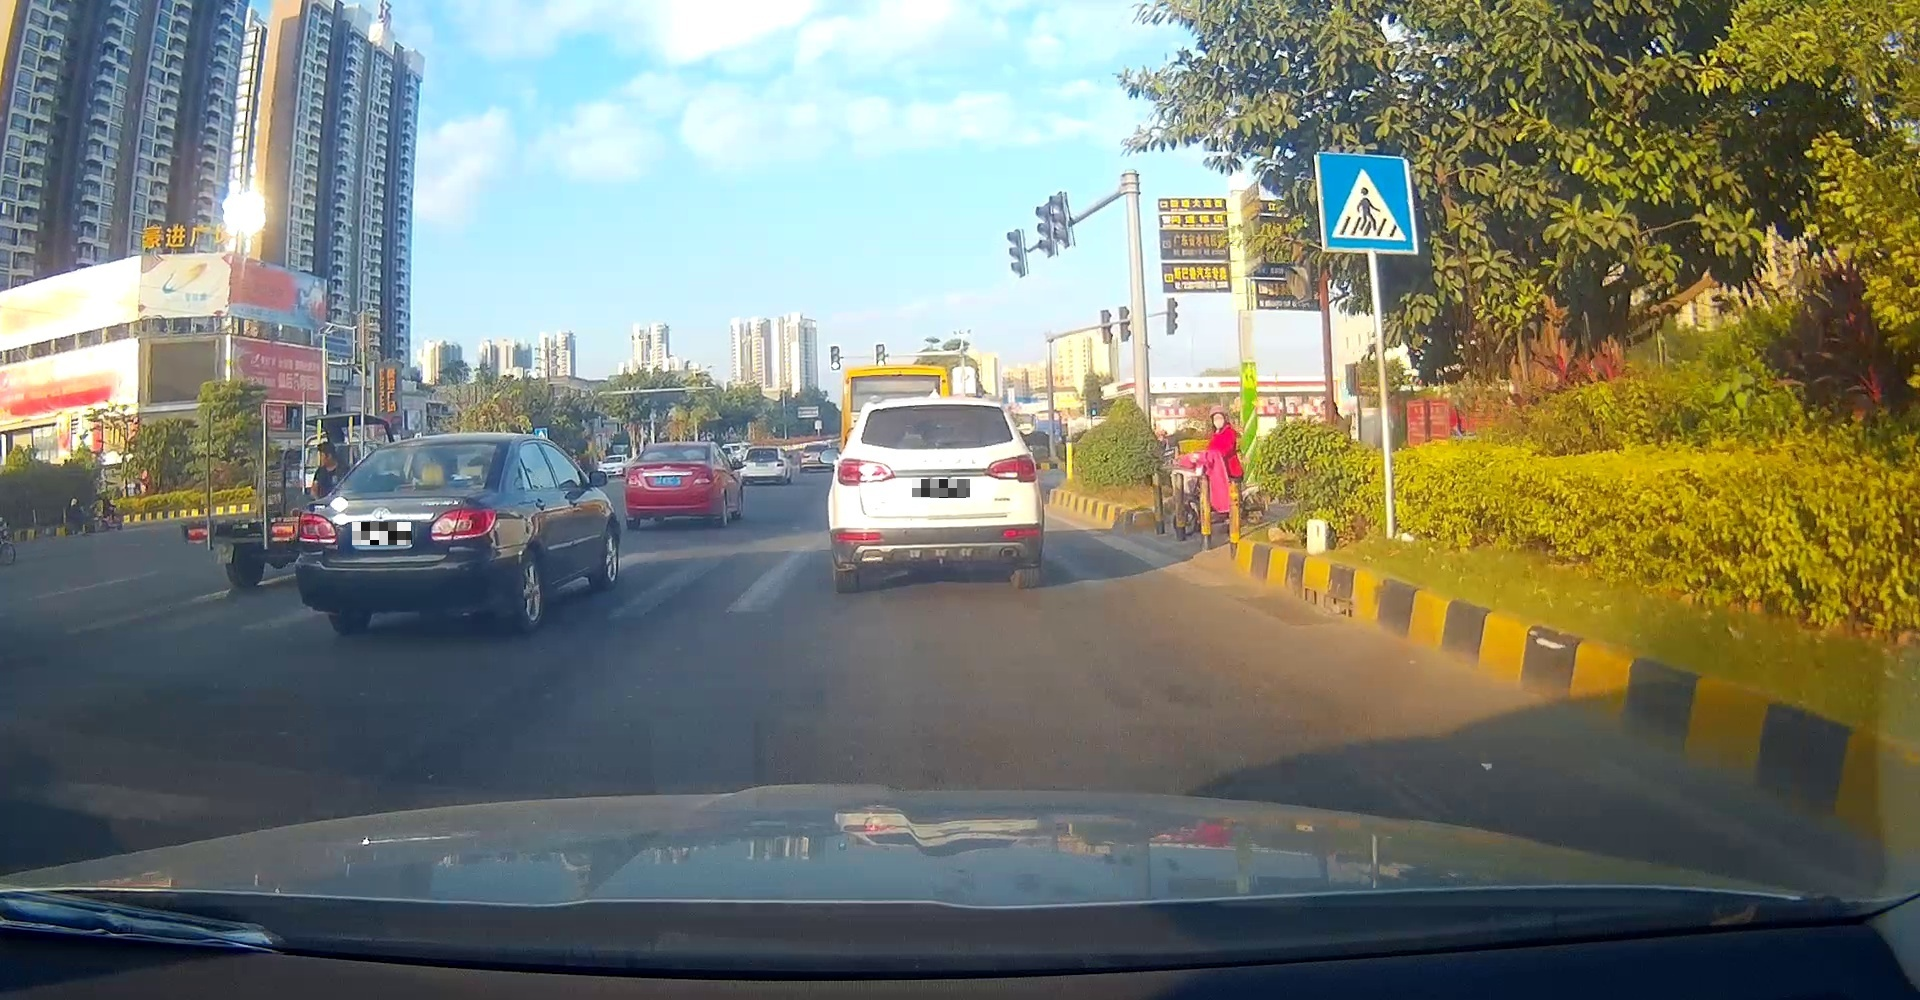L_light: (837, 458, 897, 487), (297, 511, 338, 544), (625, 473, 643, 487)
R_light: (429, 508, 497, 541), (984, 453, 1037, 484), (692, 471, 719, 485)
T_light: (913, 404, 968, 410), (392, 484, 418, 492), (664, 458, 679, 459)
day-no: (295, 431, 509, 636), (827, 395, 1044, 593), (623, 442, 720, 528)
plate_1: (352, 522, 411, 544)
plate_2: (912, 478, 970, 497)
